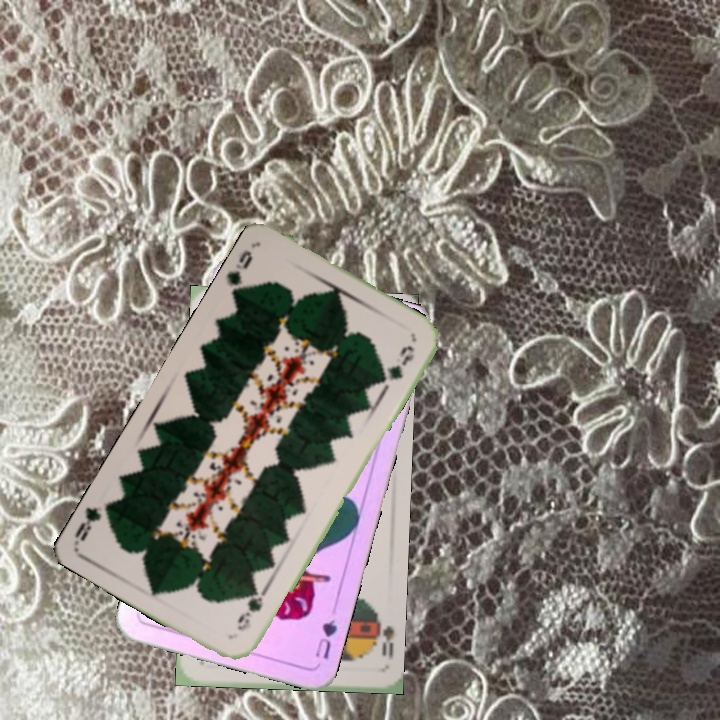G9: (232, 583, 266, 634), (223, 246, 255, 299)
GU: (311, 615, 340, 662)
SO: (369, 608, 396, 662)
